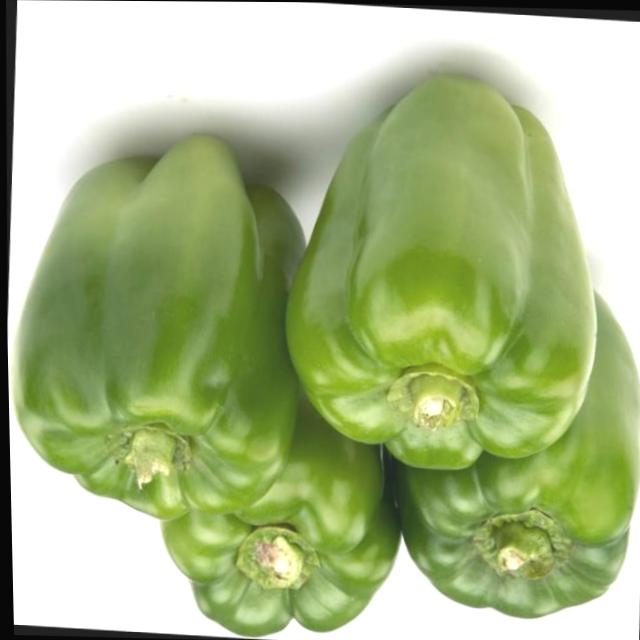Capsicum: (281, 73, 603, 473), (2, 126, 312, 521), (390, 280, 640, 622), (159, 412, 401, 640)
